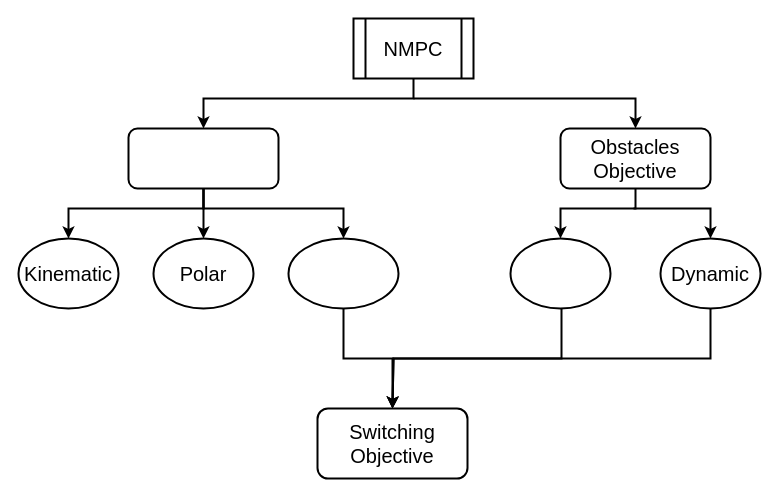
The diagram is 778 pixels wide and 496 high, and some of its shapes have lost their labels. Each missing label, with the centre of its shape:
Kino-Dynamic: pixel 343 273
State Error Objective: pixel 203 158
Static: pixel 560 273
